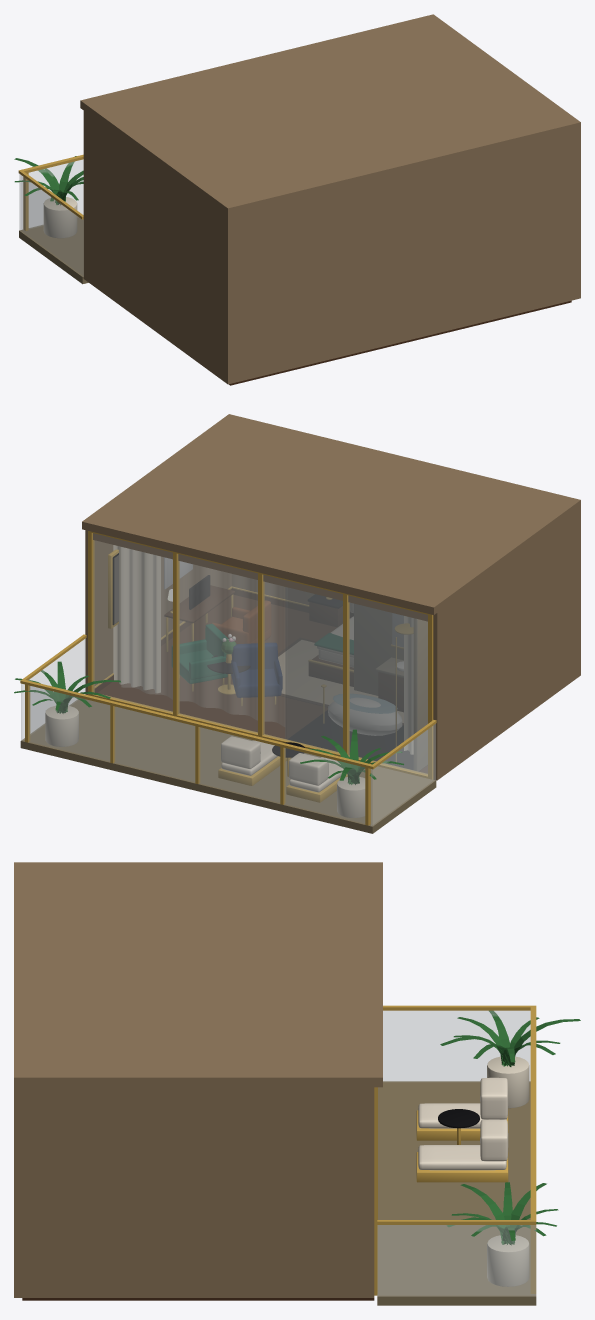
The model's file is room_deluxe.glb.
3 views of the same model, one above another, from view 1: azimuth 30°, elevation 25°; view 2: azimuth 150°, elevation 25°; view 3: azimuth 270°, elevation 25° (orthographic). The views are drawn at different scales.
Visible parts, largest first — view 1: RmDeluxeS_LuxPlasterWarm, RmDeluxeS_LuxGlass, RmDeluxeS_LuxStoneFine, RmDeluxeF_LuxPot, RmDeluxeS_LuxGold, RmDeluxeF_LuxLeaf, RmDeluxeS_LuxHerringbone; view 2: RmDeluxeS_LuxPlasterWarm, RmDeluxeS_LuxGlass, RmDeluxeS_LuxSheer, RmDeluxeF_LuxGlassSmoke, RmDeluxeS_LuxStoneFine, RmDeluxeS_LuxGold, RmDeluxeS_LuxHerringbone, RmDeluxeS_LuxVelvetCream, RmDeluxeF_LuxMarbleWhite, RmDeluxeF_LuxLinen, RmDeluxeF_LuxMarbleBlack, RmDeluxeF_LuxFlutedWalnut (+13 smaller); view 3: RmDeluxeS_LuxPlasterWarm, RmDeluxeS_LuxStoneFine, RmDeluxeS_LuxGlass, RmDeluxeF_LuxLinen, RmDeluxeS_LuxGold, RmDeluxeF_LuxLeaf, RmDeluxeF_LuxPot, RmDeluxeF_LuxGoldBrushed, RmDeluxeS_LuxHerringbone, RmDeluxeF_LuxMarbleBlack.
Part boxes in pixels (<box>): RmDeluxeS_LuxPlasterWarm: <box>80,14,580,384</box>; RmDeluxeS_LuxGlass: <box>19,159,83,276</box>; RmDeluxeS_LuxStoneFine: <box>19,216,88,284</box>; RmDeluxeF_LuxPot: <box>43,197,77,238</box>; RmDeluxeS_LuxGold: <box>18,154,83,230</box>; RmDeluxeF_LuxLeaf: <box>14,156,83,204</box>; RmDeluxeS_LuxHerringbone: <box>229,300,571,385</box>; RmDeluxeS_LuxPlasterWarm: <box>82,414,580,780</box>; RmDeluxeS_LuxGlass: <box>21,533,435,826</box>; RmDeluxeS_LuxSheer: <box>122,547,284,726</box>; RmDeluxeF_LuxGlassSmoke: <box>285,587,416,760</box>; RmDeluxeS_LuxStoneFine: <box>20,699,436,833</box>; RmDeluxeS_LuxGold: <box>20,531,436,825</box>; RmDeluxeS_LuxHerringbone: <box>98,595,427,773</box>; RmDeluxeS_LuxVelvetCream: <box>113,545,413,754</box>; RmDeluxeF_LuxMarbleWhite: <box>354,604,427,771</box>; RmDeluxeF_LuxLinen: <box>221,617,353,792</box>; RmDeluxeF_LuxMarbleBlack: <box>207,594,413,769</box>; RmDeluxeF_LuxFlutedWalnut: <box>164,585,403,711</box>; RmDeluxeS_LuxPlasterWarm: <box>14,862,382,1297</box>; RmDeluxeS_LuxStoneFine: <box>377,1081,536,1305</box>; RmDeluxeS_LuxGlass: <box>377,1011,535,1296</box>; RmDeluxeF_LuxLinen: <box>418,1077,508,1170</box>; RmDeluxeS_LuxGold: <box>374,1005,536,1295</box>; RmDeluxeF_LuxLeaf: <box>440,1010,580,1245</box>; RmDeluxeF_LuxPot: <box>487,1056,529,1286</box>; RmDeluxeF_LuxGoldBrushed: <box>416,1110,508,1182</box>; RmDeluxeS_LuxHerringbone: <box>22,1298,374,1300</box>; RmDeluxeF_LuxMarbleBlack: <box>438,1109,479,1128</box>.
Bounding box in the file's own units: 7.81 × 3.57 × 8.05.
